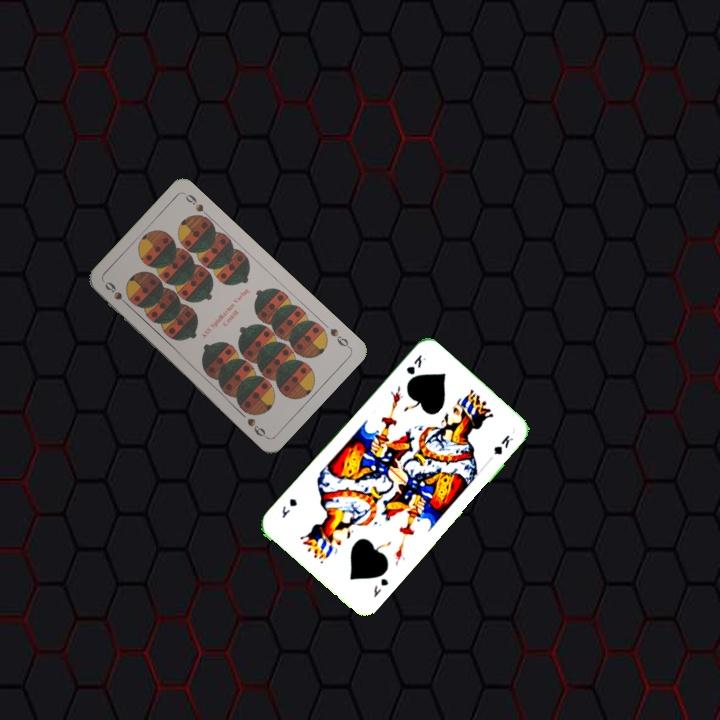GK: (402, 350, 429, 377), (369, 574, 391, 600)
S9: (101, 278, 133, 310), (326, 324, 353, 350)
